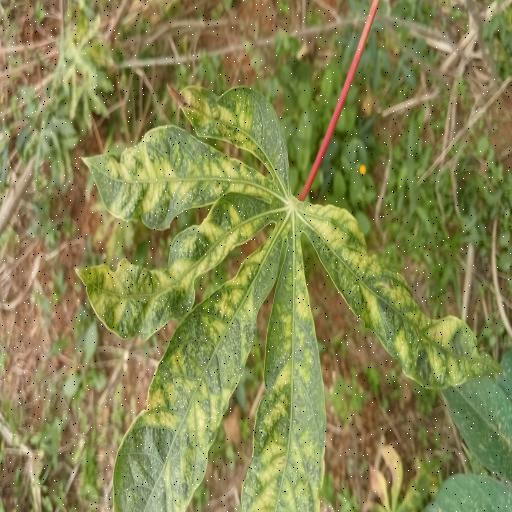Cassava_Mosaic: (72, 81, 499, 512)
